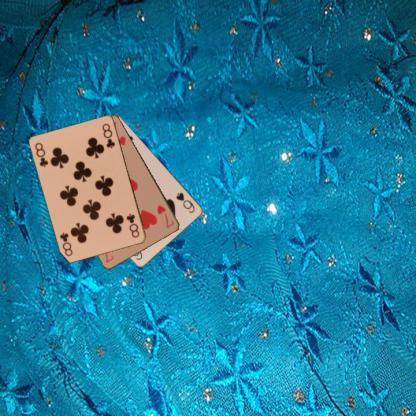6s: (173, 190, 196, 214)
7h: (154, 203, 176, 230)
8c: (124, 210, 141, 240), (32, 140, 50, 168)
